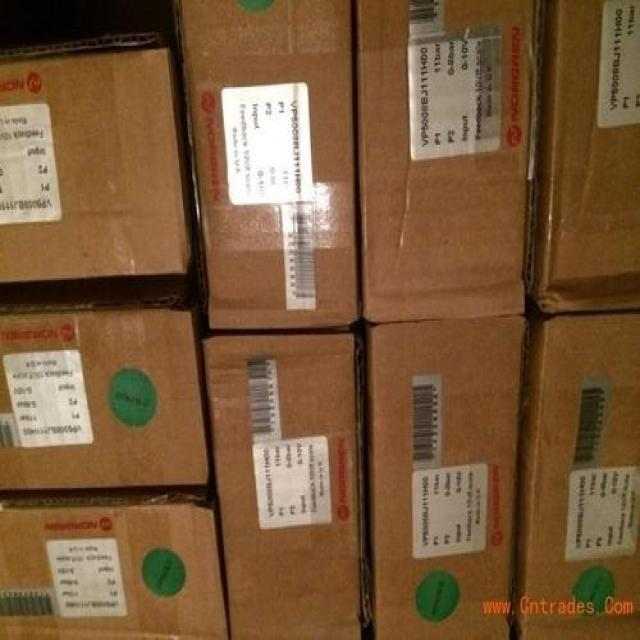box: (173, 0, 358, 329), (357, 0, 545, 323), (364, 316, 523, 638), (204, 336, 372, 640), (0, 31, 189, 282), (511, 307, 640, 640), (0, 295, 215, 490), (0, 483, 229, 640), (531, 0, 640, 314)
